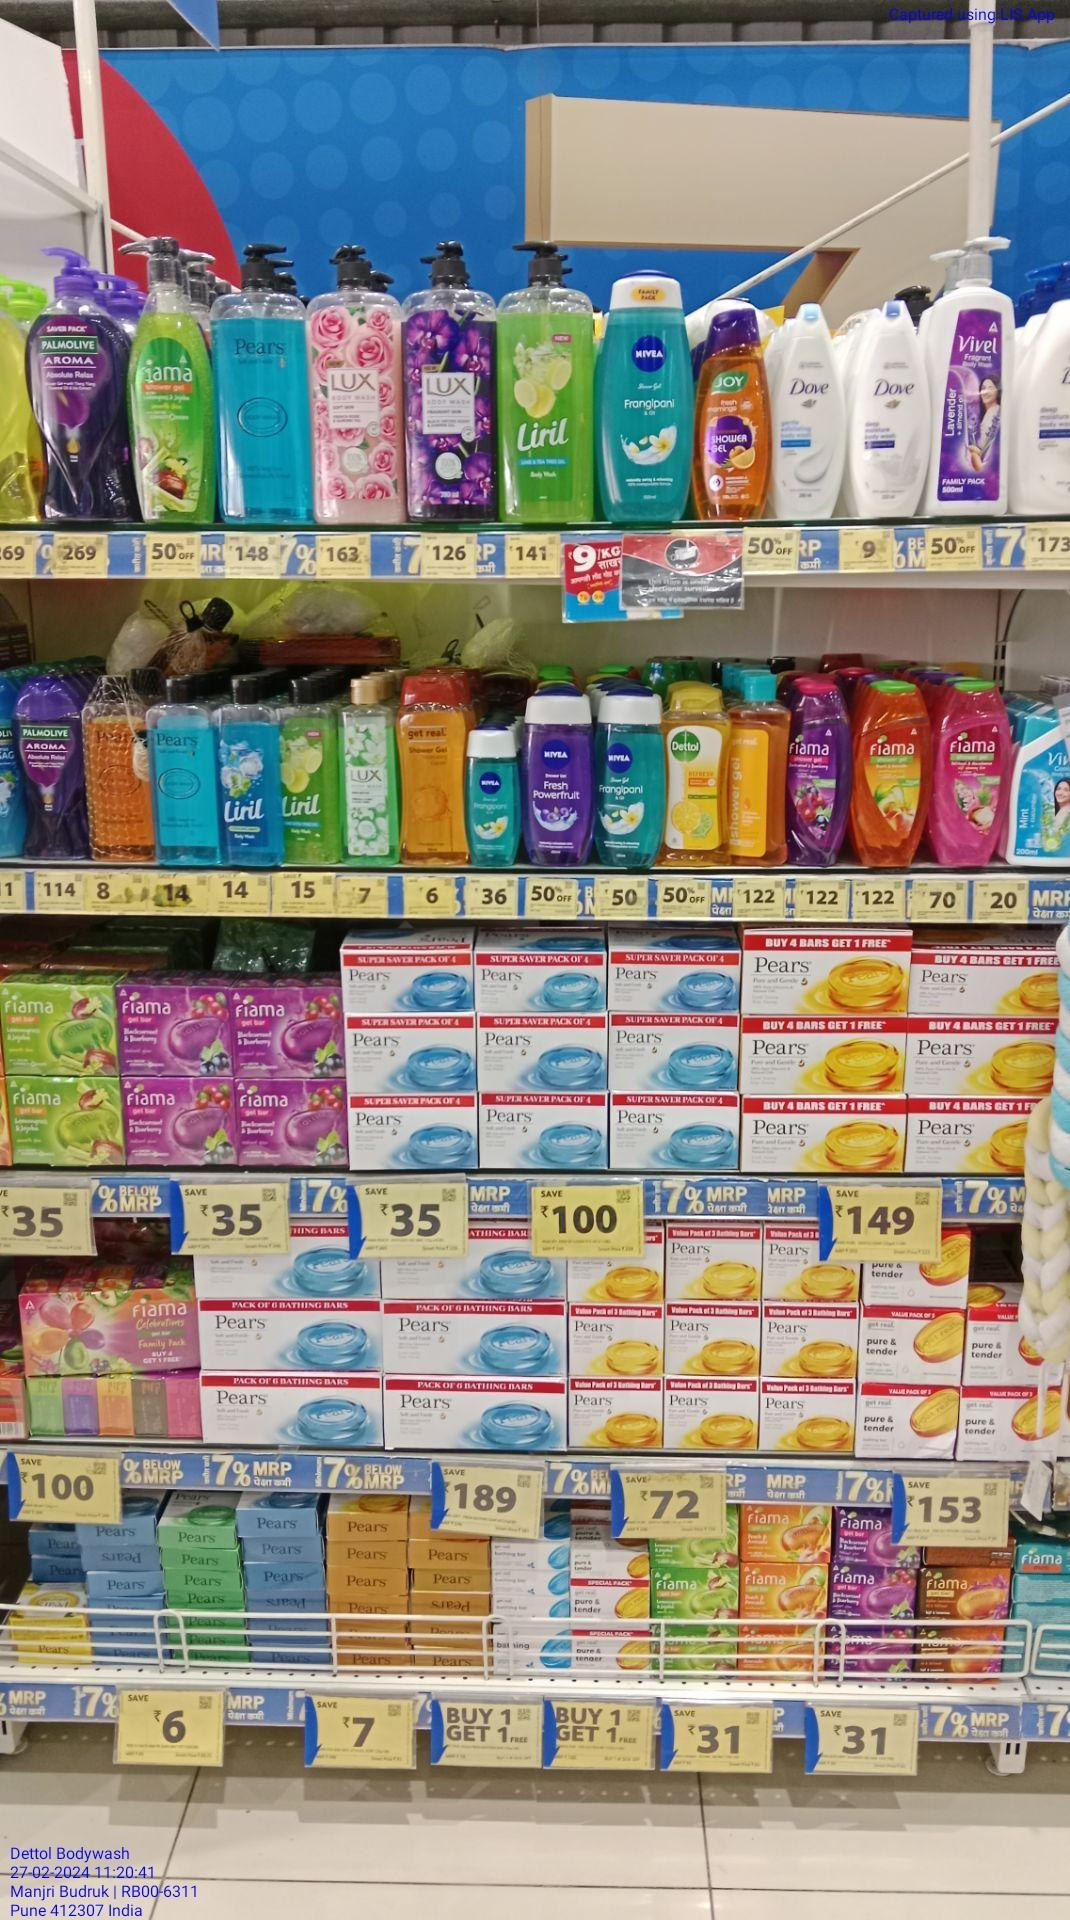Dettol_Bodywash_Refresh: (667, 687, 731, 868)
Dove_Deep_Moisture_Body_Wash_250ML: (854, 299, 929, 519)
Dove_Gentle_Exfoliating_Body_Wash_250ML: (774, 300, 842, 524)
Fiama_Shower_Gel_Patchouli_and_Macadamia_250ML: (943, 681, 1012, 867)
Fiama_Shower_Gel_Peach_and_Avocado_250ML: (857, 673, 928, 872)
Get_Real_Shower_Gel_Moisturising_Glycerin_300ML: (397, 673, 468, 870)
Joy_Shower_Gel_Mandarin_and_Lemongrass_250ML: (697, 303, 771, 522)
Liril_Cooling_Mint_Body_Wash_250ML: (219, 675, 279, 870)
Liril_Lime_and_Tea_Tree_Oil_Body_Wash_250ML: (282, 673, 339, 870)
Lux_Body_Wash_Skin_Detox_Freesia_Scent_and_Alove_Vera_245ML: (343, 680, 393, 871)
Nivea_Shower_Gel_Frangipani_and_Oil_250ML: (604, 264, 690, 524), (597, 687, 660, 874)
Nivea_Shower_Gel_Fresh_Powerfruit_250ML: (524, 684, 593, 872)
Palmolive_Aroma_Relax_250ML: (12, 679, 84, 862)
Pears_Pure_Glycerin_and_Mint_Extracts_Body_Wash_250ML: (150, 677, 215, 867)
